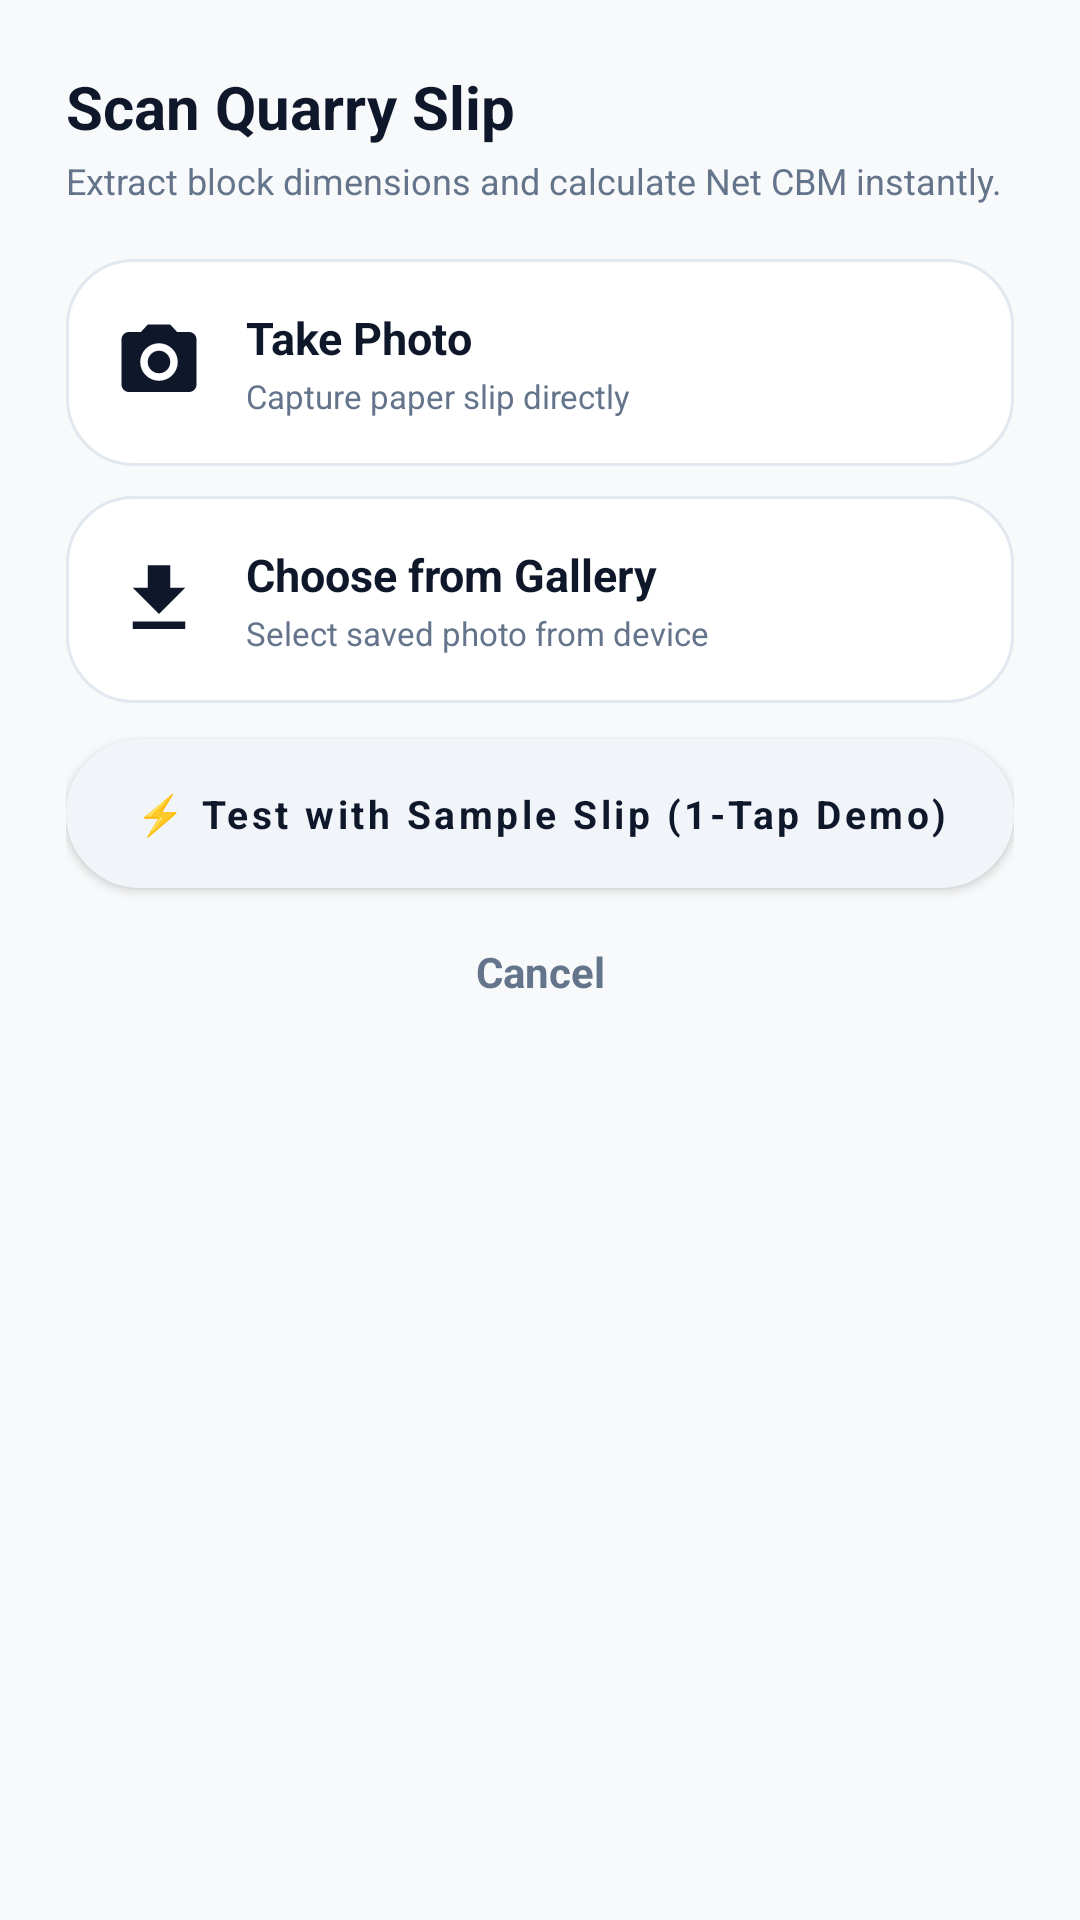

Icon bounding boxes for this 1080px×1920px phone screenshot, format box=[x1, y1, x2, y2]:
Camera: box=[121, 324, 197, 392]
